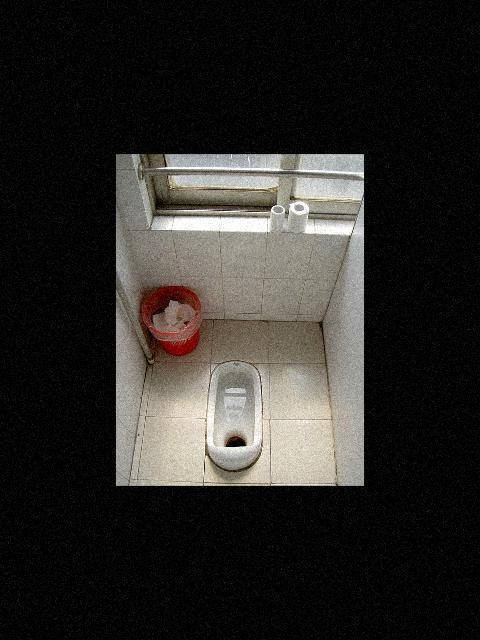Bote de Basura: (139, 279, 207, 360)
Sanitario: (207, 356, 268, 474)
